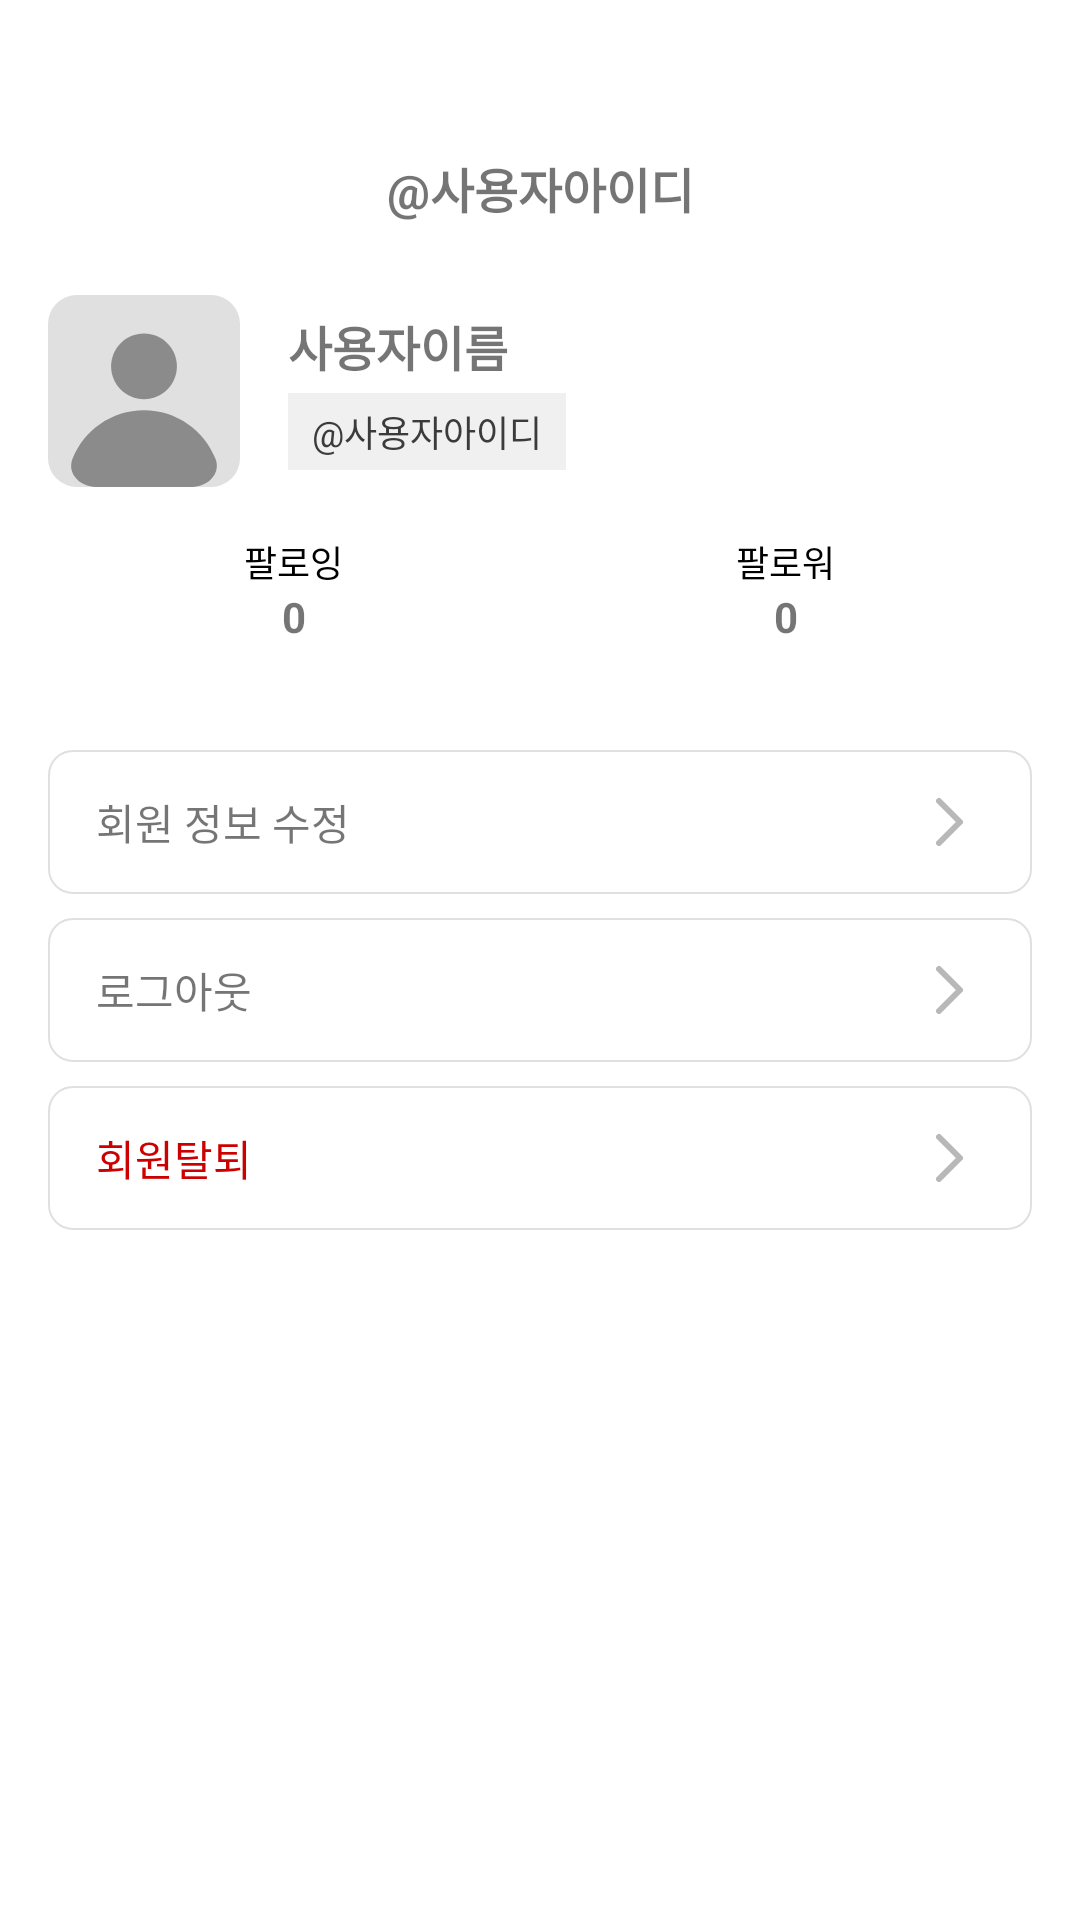

Screen size 1080×1920. Icon name, then its center in pixels as (x,y):
프로필 이미지: (144,391)
화살표 아이콘: (949,822), (949,990), (949,1158)
